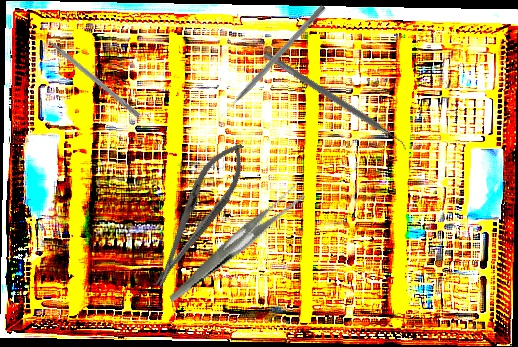Dressing Forceps: (148, 182, 323, 303)
Needle Holder: (139, 133, 257, 296)
Pusher: (217, 3, 327, 119), (34, 26, 142, 119)
Spatula Surgical: (259, 51, 411, 153)
